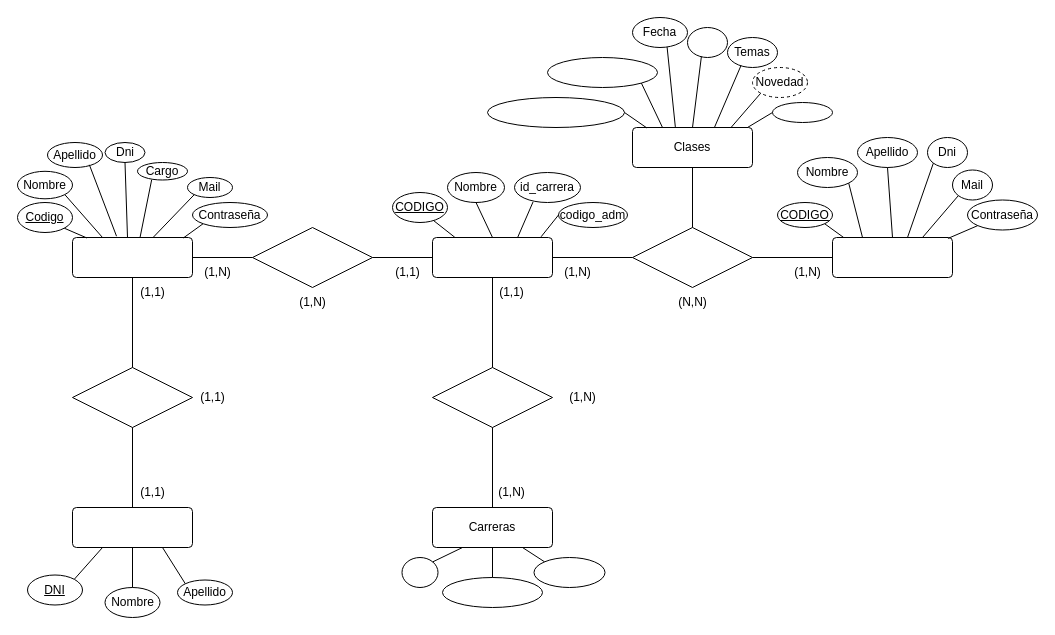
Some shapes in this 1055 by 635 pixel diagram are drawn without their labels. The box of each missing label's shape, as (x1, y1, x2, y2) in pixels:
Administradores: (72, 236, 192, 278)
CODIGO_MATERIA: (546, 56, 658, 88)
CODIGO_PROFESOR: (486, 96, 624, 128)
Comisión: (772, 102, 832, 122)
Descripcion: (533, 556, 605, 588)
Hora: (686, 26, 728, 58)
ID: (401, 556, 438, 588)
Jefes de area: (72, 506, 192, 548)
Materias: (432, 236, 552, 278)
Profesores: (832, 236, 952, 278)
Tituto_abreviado: (442, 576, 542, 608)
